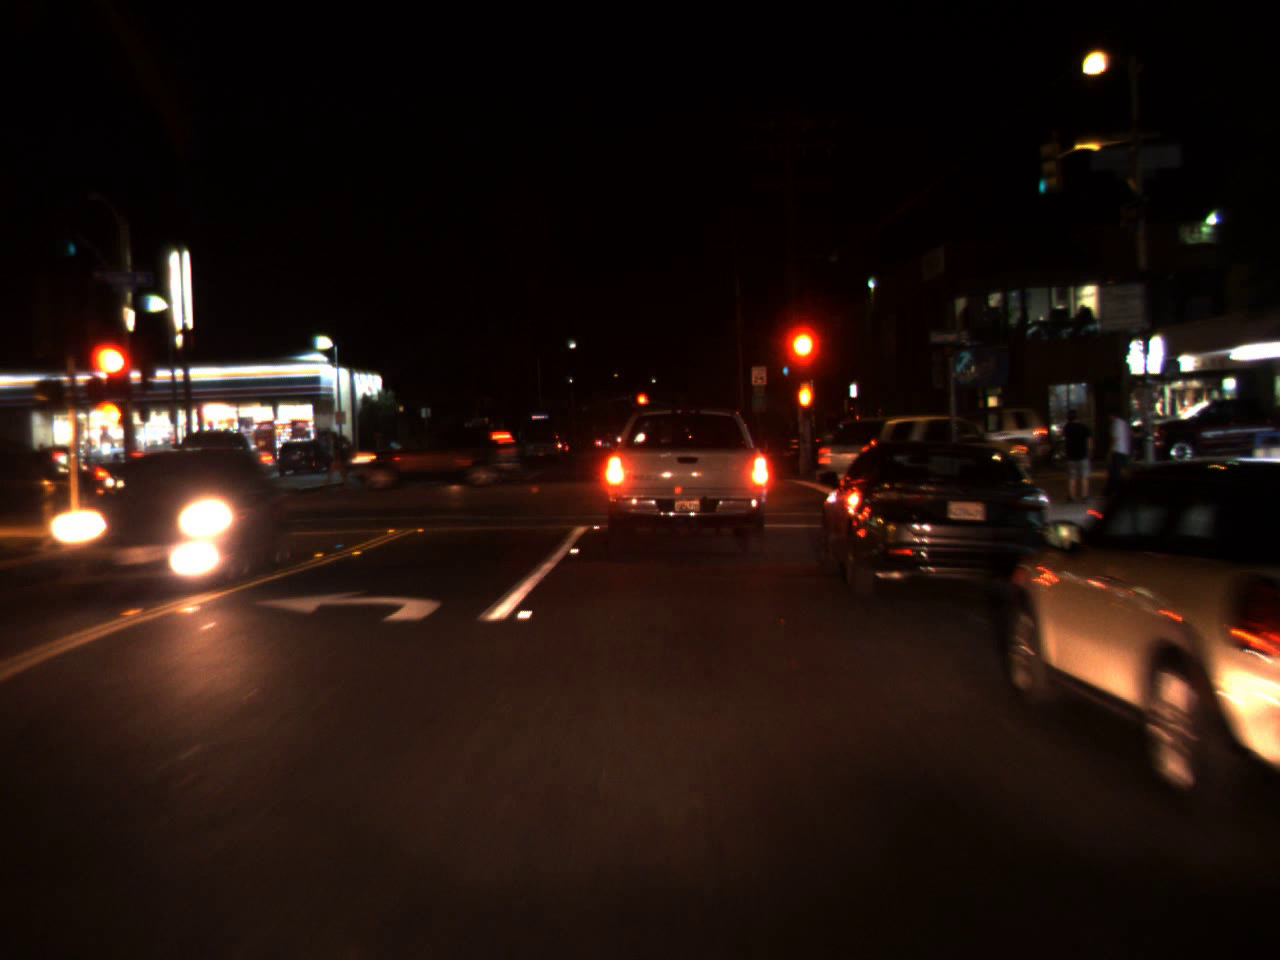stop: (92, 339, 135, 417), (781, 329, 815, 385), (635, 391, 650, 418)
